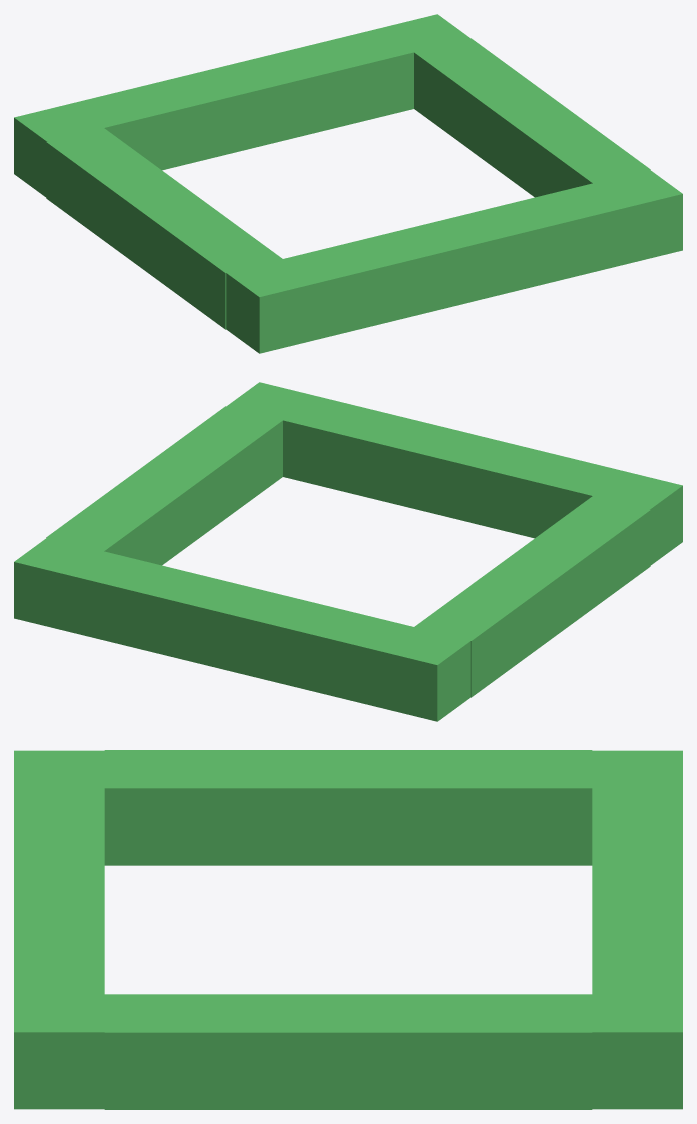
Rendered from spike_trap_collision.glb.
3 renders of one model, top to bottom at view 1: azimuth 30°, elevation 25°; view 2: azimuth 150°, elevation 25°; view 3: azimuth 270°, elevation 25°, orthographic. The views are drawn at different scales.
Parts seen in each view (by area): view 1: spike_trap-col-s, spike_trap-col-n, spike_trap-col-w, spike_trap-col-e; view 2: spike_trap-col-n, spike_trap-col-s, spike_trap-col-w, spike_trap-col-e; view 3: spike_trap-col-e, spike_trap-col-w, spike_trap-col-n, spike_trap-col-s.
Part boxes in pixels (x1,y1,x2,y2): spike_trap-col-s: (226,169,682,353); spike_trap-col-n: (14,14,470,197); spike_trap-col-w: (46,128,282,329); spike_trap-col-e: (414,38,650,197); spike_trap-col-n: (14,537,470,721); spike_trap-col-s: (226,382,682,565); spike_trap-col-w: (414,496,650,697); spike_trap-col-e: (46,406,282,565); spike_trap-col-e: (104,994,592,1109); spike_trap-col-w: (104,750,592,865); spike_trap-col-n: (592,750,682,1109); spike_trap-col-s: (14,750,104,1109).
Size of the model in its own units: 2.36 by 0.3 by 2.36.
